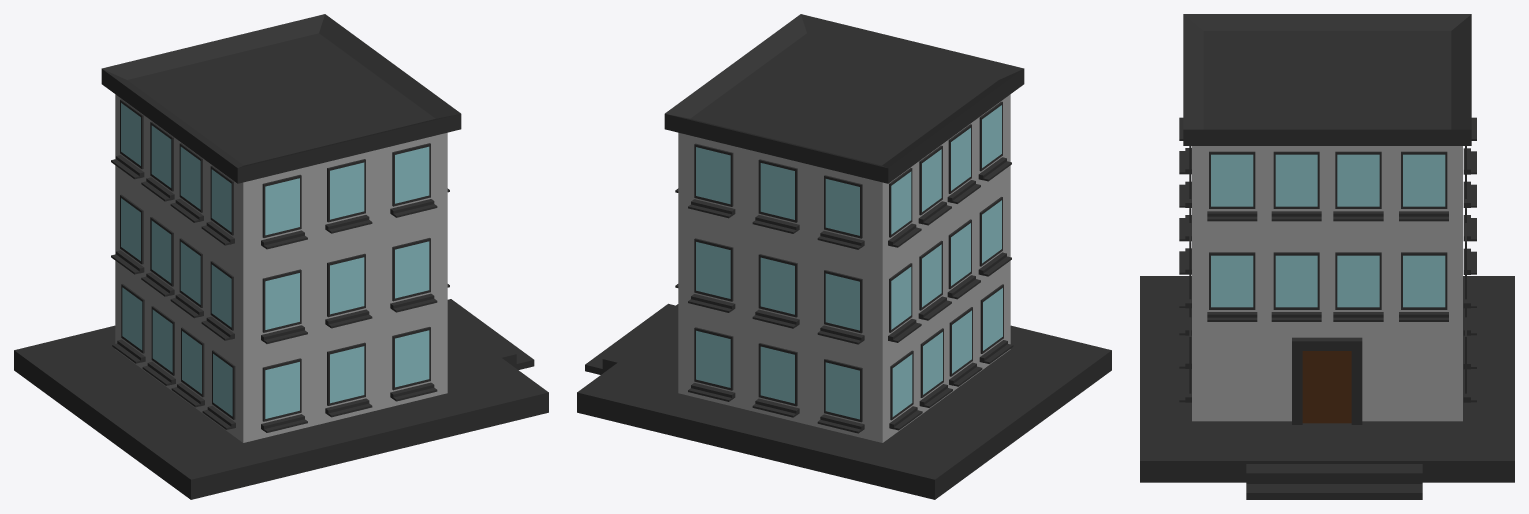
The model's file is Basic Office Building.fbx.
The picture shows the model from 3 angles, left to right: view 1: azimuth 30°, elevation 25°; view 2: azimuth 150°, elevation 25°; view 3: azimuth 270°, elevation 25°; orthographic projection. The views are drawn at different scales.
Parts seen in each view (by area): view 1: pasted__pasted__pCube1, pasted__pasted__pasted__pasted__pasted__pasted__pasted__past (×22), pasted__pasted__pasted__pasted__pCube2, pasted__pasted__pCube2; view 2: pasted__pasted__pCube1, pasted__pasted__pasted__pasted__pasted__pasted__pasted__past (×22), pasted__pasted__pasted__pasted__pCube2, pasted__pasted__pCube2; view 3: pasted__pasted__pCube1, pasted__pasted__pasted__pasted__pCube2, pasted__pasted__pCube2, pasted__pasted__pasted__pasted__pasted__pasted__pasted__past (×15), pasted__pasted__pasted__pasted__pCube1 (×3), pasted__pasted__pasted__pasted__pasted__pasted__pasted__pCub (×2), pasted__pasted__pasted__pCube1.
Boxes of the visible parts, x1,y1,x2,y2 form: pasted__pasted__pCube1: [115, 94, 447, 442]; pasted__pasted__pasted__pasted__pasted__pasted__pasted__past (×22): [120, 99, 534, 421]; pasted__pasted__pasted__pasted__pCube2: [101, 14, 461, 183]; pasted__pasted__pCube2: [14, 318, 548, 499]; pasted__pasted__pCube1: [678, 94, 1010, 442]; pasted__pasted__pasted__pasted__pasted__pasted__pasted__past (×22): [585, 101, 1003, 422]; pasted__pasted__pasted__pasted__pCube2: [664, 14, 1024, 183]; pasted__pasted__pCube2: [577, 318, 1111, 499]; pasted__pasted__pCube1: [1192, 146, 1462, 421]; pasted__pasted__pasted__pasted__pCube2: [1183, 14, 1471, 145]; pasted__pasted__pCube2: [1140, 276, 1514, 482]; pasted__pasted__pasted__pasted__pasted__pasted__pasted__past (×15): [1207, 151, 1448, 499]; pasted__pasted__pasted__pasted__pCube1 (×3): [1292, 337, 1362, 424]; pasted__pasted__pasted__pasted__pasted__pasted__pasted__pCub (×2): [1399, 151, 1448, 221]; pasted__pasted__pasted__pCube1: [1292, 337, 1302, 424].
Size of the model in its own units: 15.78 by 11.51 by 12.29.
